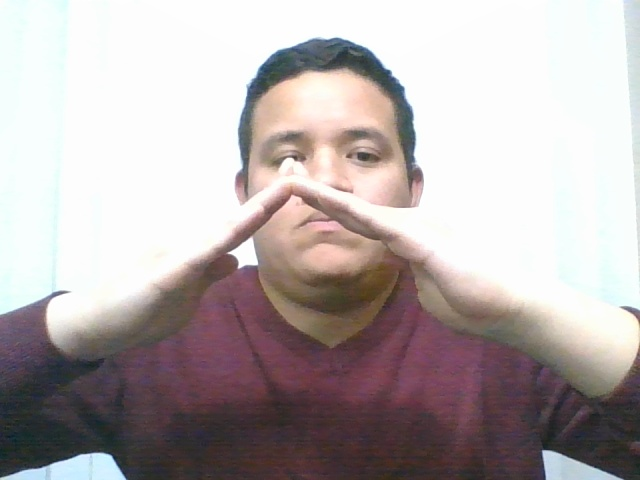House: (29, 146, 620, 431)
